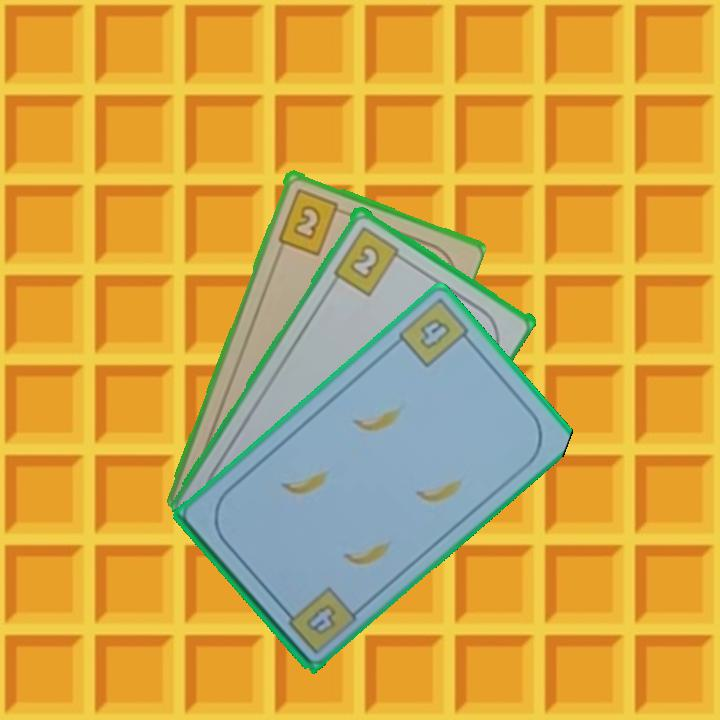2b: (329, 222, 409, 298), (274, 184, 349, 258)
4b: (394, 295, 477, 371), (301, 599, 340, 638)
